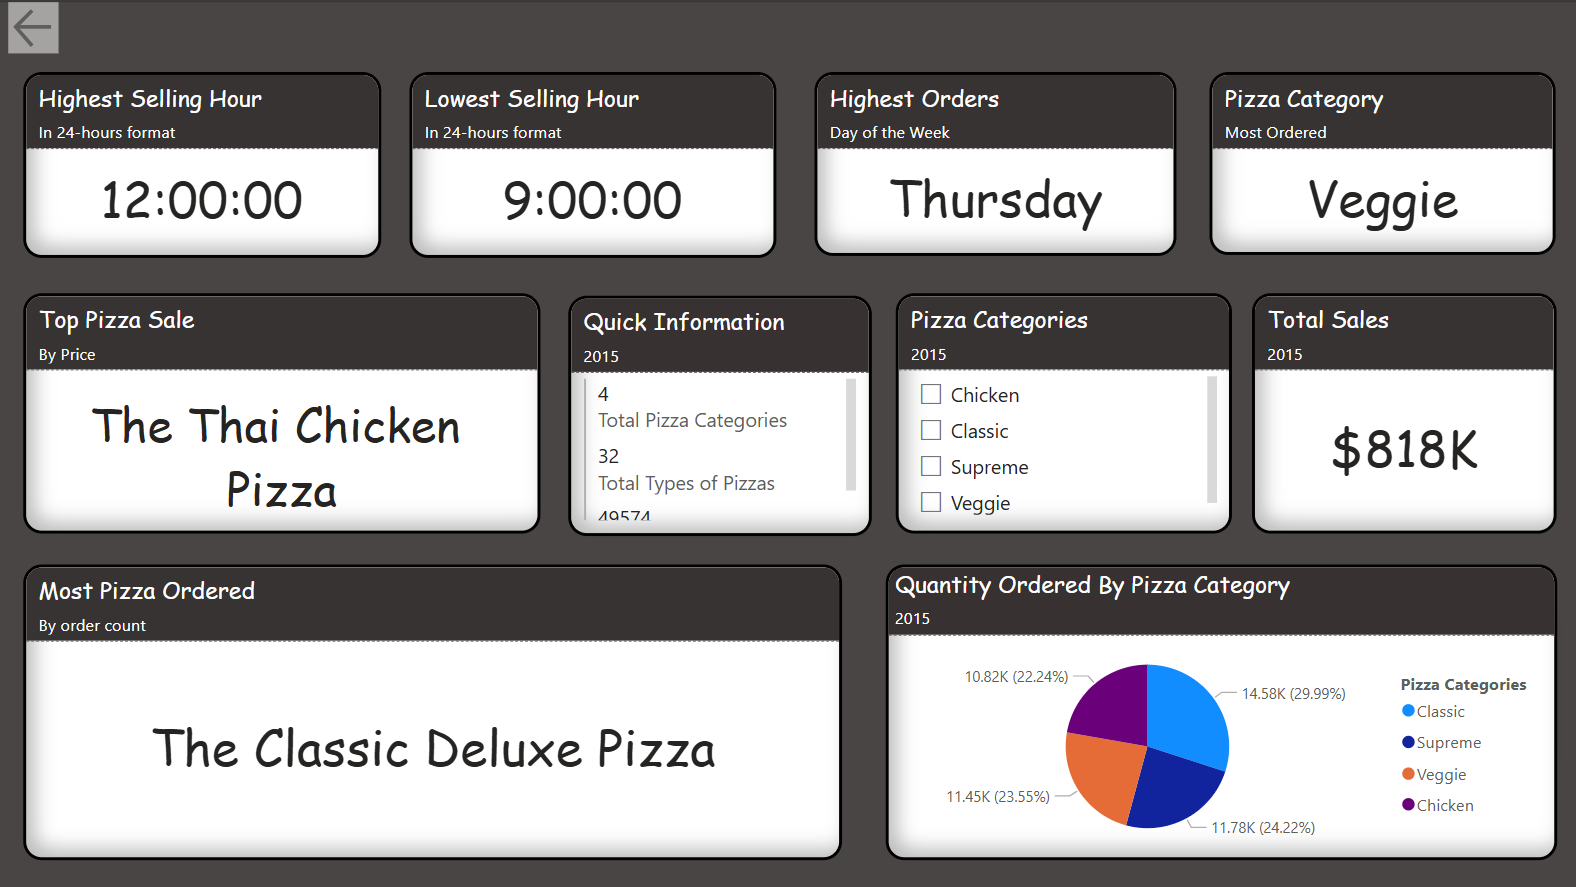

The dashboard page shown, as its layout file describes it:
{"tool":"powerbi","page":{"name":"Page 2","canvas":[1280,720],"ordinal":1},"visuals":[{"type":"card","title":"Top Pizza Sale","fields":{"Values":["order_details.MostSoldPizza"]},"box":[20.9,236,418.6,194.2],"z":0},{"type":"card","title":"Most Pizza Ordered","fields":{"Values":["order_details.Pizza_Most_ordered"]},"box":[20.9,454.7,662.8,239.5],"z":1000},{"type":"card","title":"Pizza Category","fields":{"Values":["pizzas.Category_Most_Ordered"]},"box":[981.4,57,280.2,147.7],"z":2000},{"type":"slicer","title":"Pizza Categories","fields":{"Values":["pizzas.pizzas_type.category"]},"box":[726.7,236,272.1,194.2],"z":3000},{"type":"card","title":"Highest Selling Hour","fields":{"Values":["orders.Highest_selling_hours"]},"box":[20.9,57,289.5,150],"z":4000},{"type":"card","title":"Lowest Selling Hour","fields":{"Values":["orders.Lowest_selling_hours"]},"box":[333.7,57,296.5,150],"z":5000},{"type":"card","title":"Highest Orders","fields":{"Values":["orders.Day_most_ordered"]},"box":[661.6,57,293,148.8],"z":6000},{"type":"card","title":"Highest Orders","fields":{"Values":["Min(orders.Day_type)"]},"box":[898.8,487.2,348.8,123.3],"z":7000},{"type":"pieChart","title":"Quantity Ordered By Pizza Category","fields":{"Category":["pizzas.pizzas_type.category"],"Y":["CountNonNull(order_details.quantity)"]},"box":[718.6,454.7,543,239.5],"z":8000},{"type":"multiRowCard","title":"Quick Information","fields":{"Values":["pizzas.pizzas_type.category","pizzas.pizzas_type.name","Sum(order_details.quantity)"]},"box":[461.6,237.2,245.3,194.2],"z":9000},{"type":"card","title":"Total Sales","fields":{"Values":["order_details.total_sales"]},"box":[1015.1,236,246.5,194.2],"z":10000},{"type":"actionButton","box":[9.3,0,40.7,41.9],"z":11000}]}

Visuals, with their boxes on the page's 1280x720 design canvas (x1, y1, x2, y2). These are canvas units, not pixel positions in the 1576x887 screenshot, which may show the page scaled, cropped or inside an application window:
"Top Pizza Sale" card: {"left": 21, "top": 236, "right": 440, "bottom": 430}
"Most Pizza Ordered" card: {"left": 21, "top": 455, "right": 684, "bottom": 694}
"Pizza Category" card: {"left": 981, "top": 57, "right": 1262, "bottom": 205}
"Pizza Categories" slicer: {"left": 727, "top": 236, "right": 999, "bottom": 430}
"Highest Selling Hour" card: {"left": 21, "top": 57, "right": 310, "bottom": 207}
"Lowest Selling Hour" card: {"left": 334, "top": 57, "right": 630, "bottom": 207}
"Highest Orders" card: {"left": 662, "top": 57, "right": 955, "bottom": 206}
"Highest Orders" card: {"left": 899, "top": 487, "right": 1248, "bottom": 610}
"Quantity Ordered By Pizza Category" pieChart: {"left": 719, "top": 455, "right": 1262, "bottom": 694}
"Quick Information" multiRowCard: {"left": 462, "top": 237, "right": 707, "bottom": 431}
"Total Sales" card: {"left": 1015, "top": 236, "right": 1262, "bottom": 430}
actionButton: {"left": 9, "top": 0, "right": 50, "bottom": 42}
